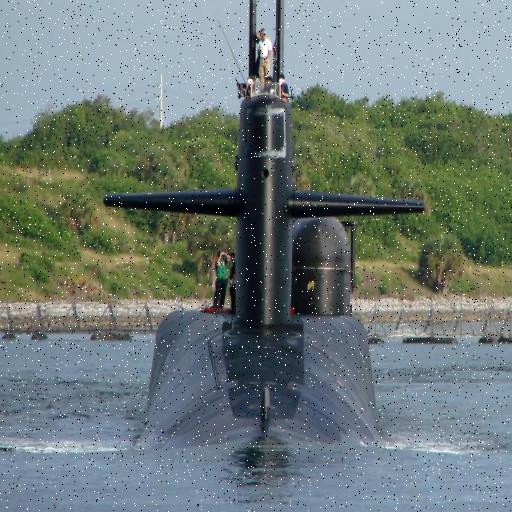submarine: (101, 1, 427, 476)
